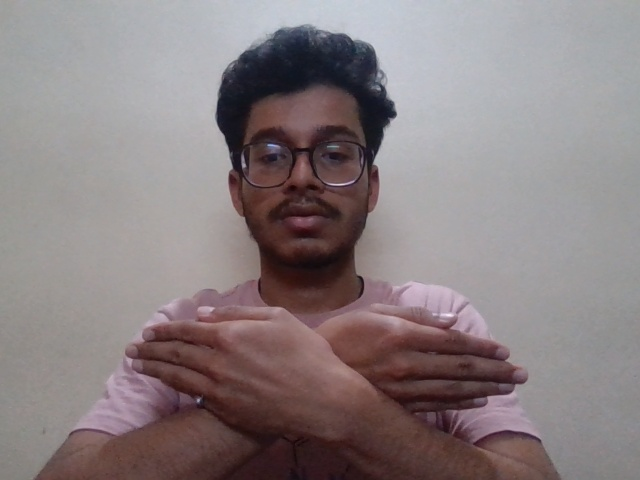feel: (126, 281, 533, 458)
